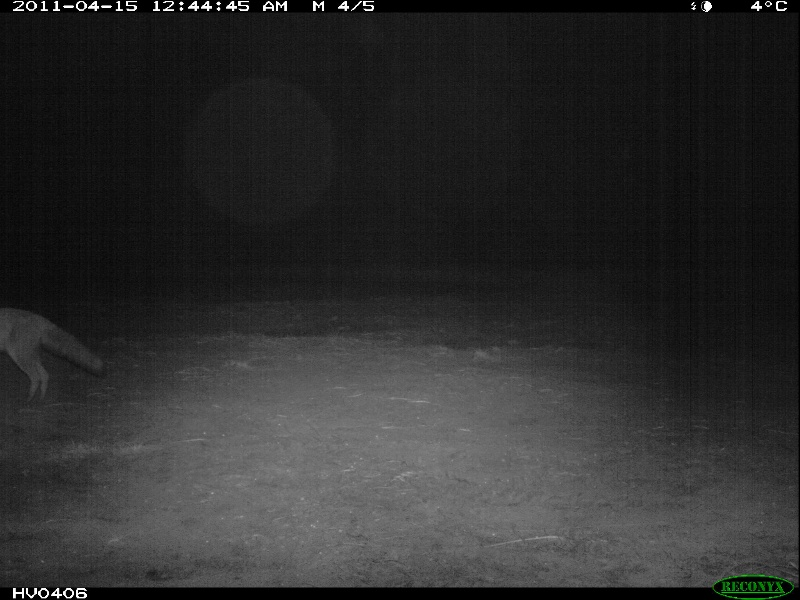fox: (1, 305, 105, 405)
